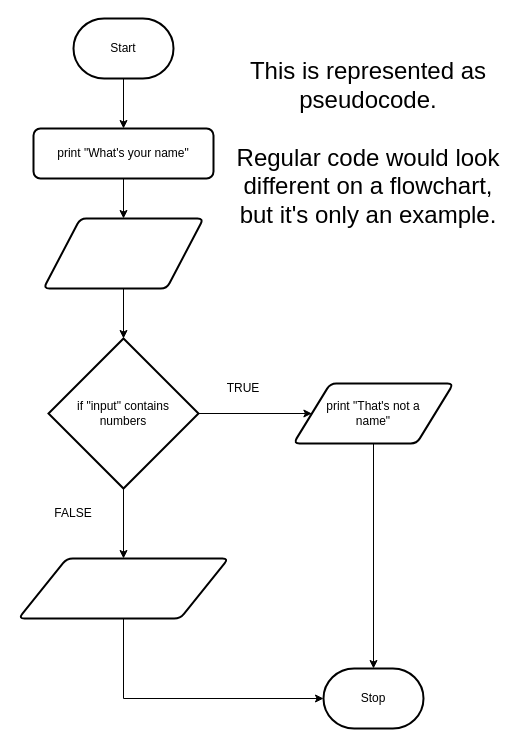
This 520x746 diagram has some shape labels left out. Here are the shapes that lost their labels. From the top down, the centre of each, then its label:
point 123,253: name = "input"
point 123,588: print "Nice to meet you, [input]!"
